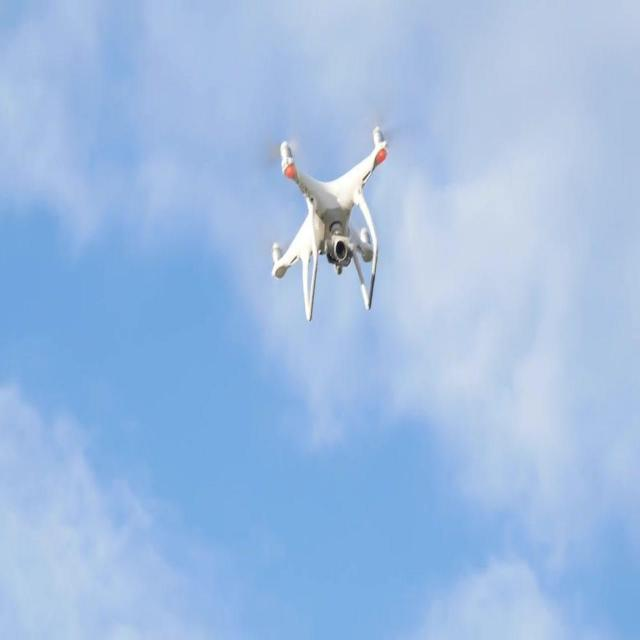UAV: (270, 121, 388, 322)
